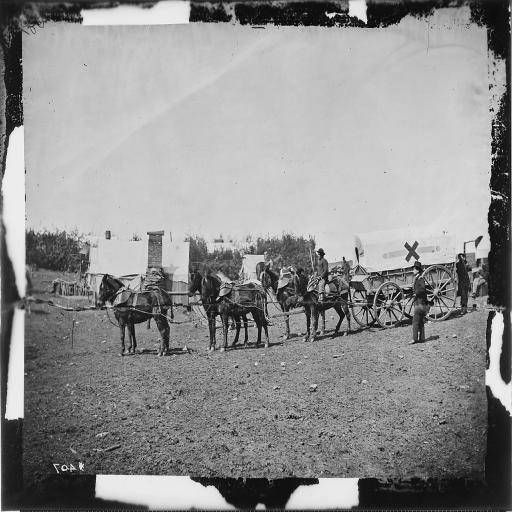horse: (97, 272, 176, 356), (187, 264, 250, 349), (201, 272, 271, 348), (108, 274, 172, 354), (290, 266, 354, 340), (256, 259, 312, 341)
